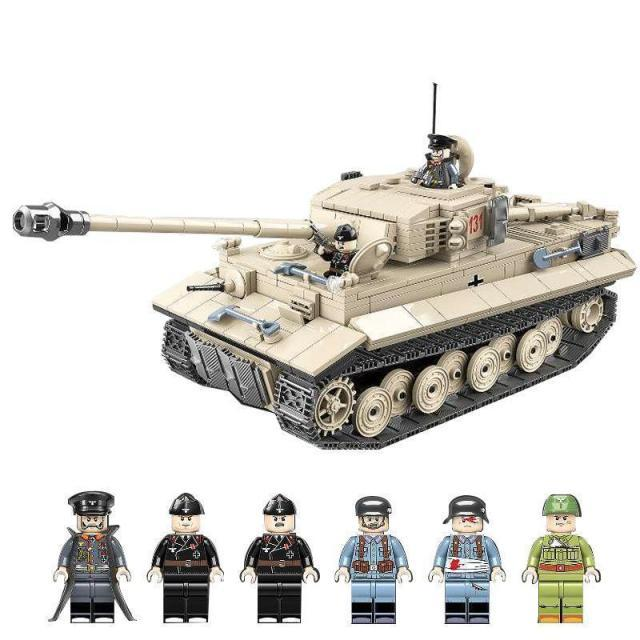MIL_MBT: (10, 75, 634, 442)
